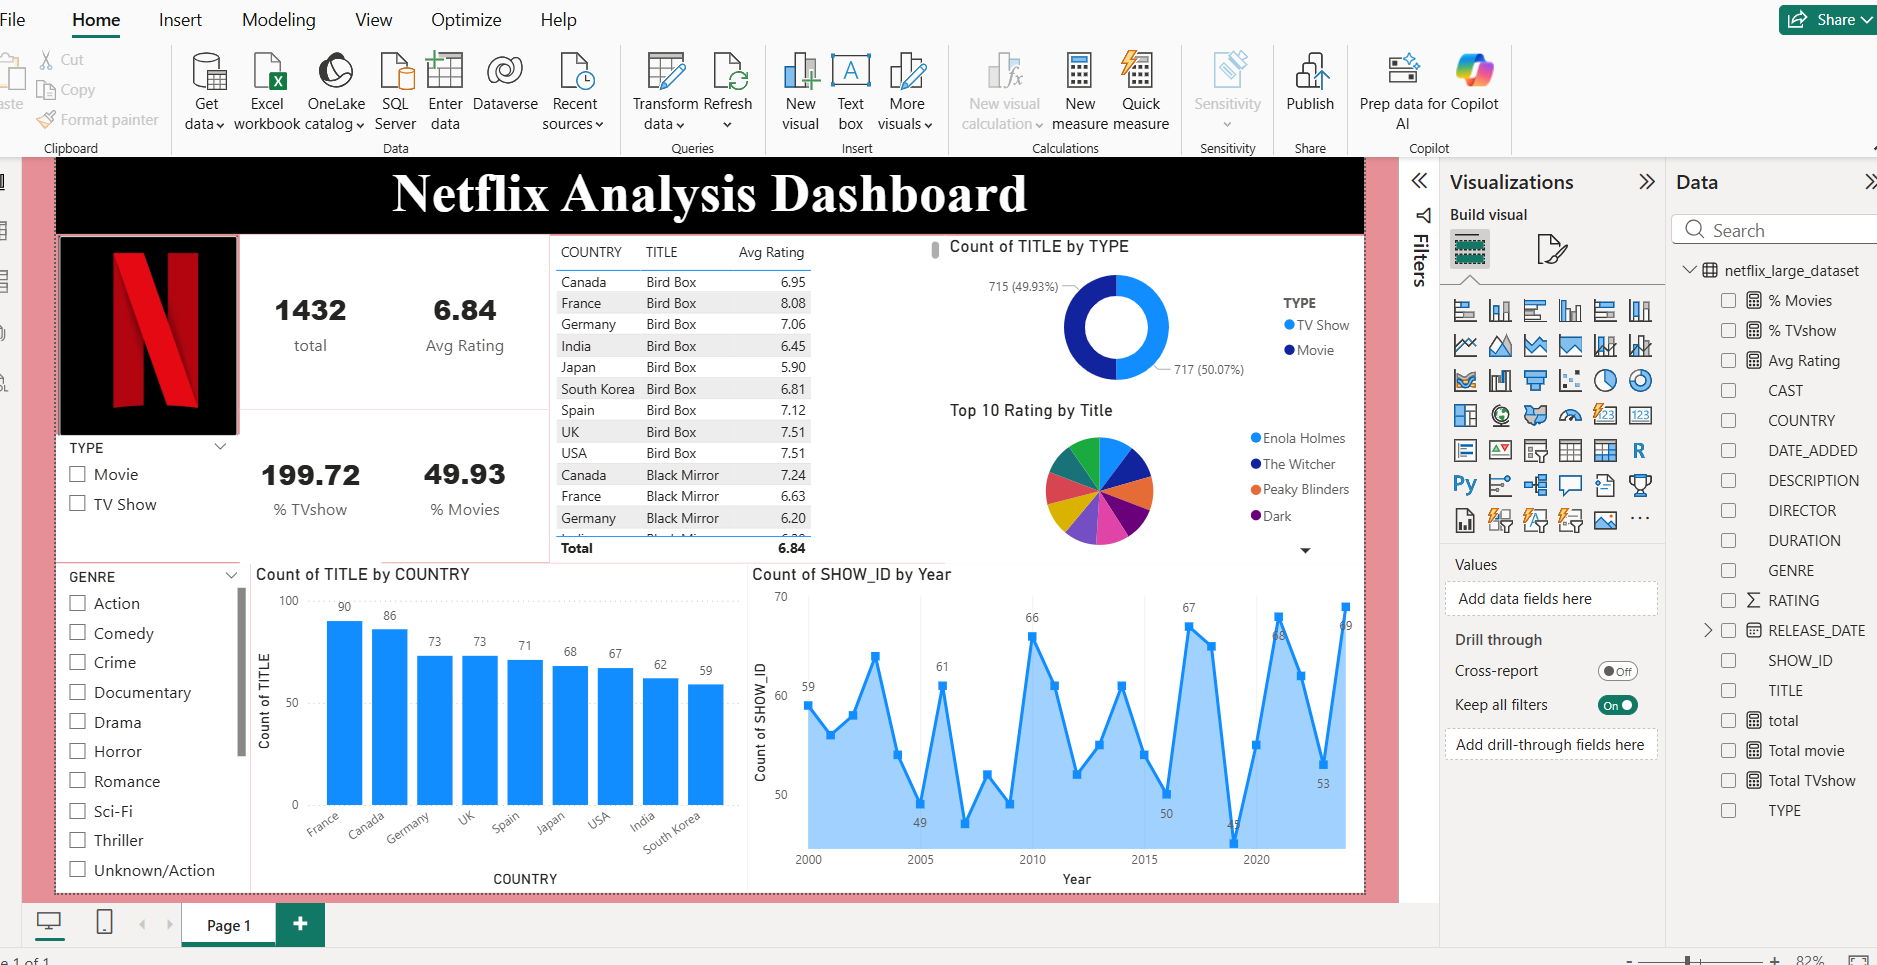

This screenshot's page, from the dashboard's own definition file:
{"tool":"powerbi","page":{"name":"Page 1","canvas":[1280,720],"ordinal":0},"visuals":[{"type":"lineChart","fields":{"Y":["CountNonNull(netflix_large_dataset.SHOW_ID)"],"Category":["netflix_large_dataset.RELEASE_DATE.Variation.Date Hierarchy.Year"]},"box":[676.5,397.9,603.8,322.5],"z":0},{"type":"textbox","box":[0,0,1280.3,75.5],"z":1000},{"type":"columnChart","fields":{"Category":["netflix_large_dataset.COUNTRY"],"Y":["CountNonNull(netflix_large_dataset.TITLE)"]},"box":[190.7,397.9,485.8,322.5],"z":2000},{"type":"pieChart","title":"Top 10 Rating by Title","fields":{"Category":["netflix_large_dataset.TITLE"],"Y":["Avg(netflix_large_dataset.RATING)"]},"box":[870,237.4,410.3,160.5],"z":3000},{"type":"slicer","fields":{"Values":["netflix_large_dataset.GENRE"]},"box":[0,397.9,190.7,322.5],"z":4000},{"type":"slicer","fields":{"Values":["netflix_large_dataset.TYPE"]},"box":[0,271.7,179.8,124.9],"z":4001},{"type":"card","fields":{"Values":["netflix_large_dataset.total"]},"box":[179.8,75.5,138.6,171.5],"z":4002},{"type":"card","fields":{"Values":["netflix_large_dataset.% TVshow"]},"box":[179.8,247,138.6,150.9],"z":4003},{"type":"card","fields":{"Values":["netflix_large_dataset.Avg Rating"]},"box":[318.4,75.5,164.7,171.5],"z":4004},{"type":"card","fields":{"Values":["netflix_large_dataset.% Movies"]},"box":[318.4,247,164.7,149.6],"z":4005},{"type":"tableEx","fields":{"Values":["netflix_large_dataset.COUNTRY","netflix_large_dataset.TITLE","netflix_large_dataset.DIRECTOR","netflix_large_dataset.Avg Rating"]},"box":[483,76.8,387,319.7],"z":4006},{"type":"donutChart","fields":{"Category":["netflix_large_dataset.TYPE"],"Y":["CountNonNull(netflix_large_dataset.TITLE)"]},"box":[870,76.8,410.3,160.5],"z":4007},{"type":"image","box":[0,76.8,179.8,194.9],"z":4008}]}

Visuals, with their boxes on the page's 1280x720 design canvas (x1, y1, x2, y2). These are canvas units, not pixel positions in the 1877x965 screenshot, which may show the page scaled, cropped or inside an application window:
lineChart - CountNonNull(netflix_large_dataset.SHOW_ID) x netflix_large_dataset.RELEASE_DATE.Variation.Date Hierarchy.Year: 676,398,1280,720
textbox: 0,0,1280,76
columnChart - netflix_large_dataset.COUNTRY x CountNonNull(netflix_large_dataset.TITLE): 191,398,676,720
"Top 10 Rating by Title" pieChart: 870,237,1280,398
slicer - netflix_large_dataset.GENRE: 0,398,191,720
slicer - netflix_large_dataset.TYPE: 0,272,180,397
card - netflix_large_dataset.total: 180,76,318,247
card - netflix_large_dataset.% TVshow: 180,247,318,398
card - netflix_large_dataset.Avg Rating: 318,76,483,247
card - netflix_large_dataset.% Movies: 318,247,483,397
tableEx - netflix_large_dataset.COUNTRY x netflix_large_dataset.TITLE: 483,77,870,396
donutChart - netflix_large_dataset.TYPE x CountNonNull(netflix_large_dataset.TITLE): 870,77,1280,237
image: 0,77,180,272
